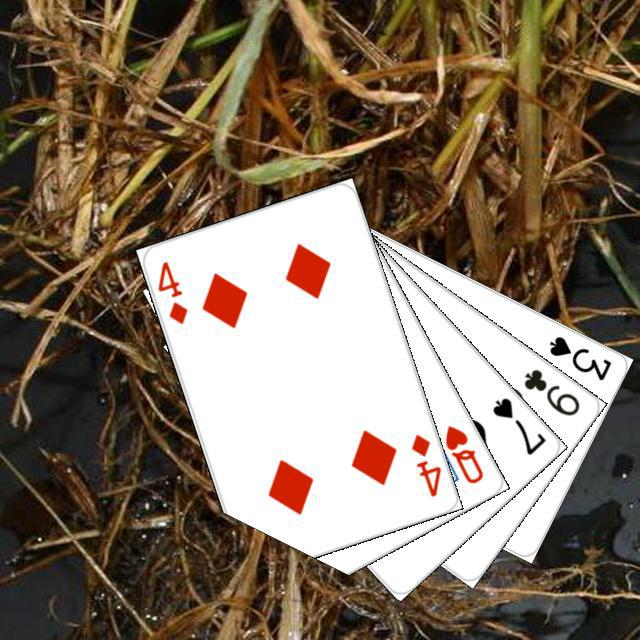3s: (544, 331, 613, 382)
4d: (152, 256, 190, 327), (406, 429, 443, 499)
7s: (487, 392, 548, 457)
9c: (518, 364, 582, 418)
Qh: (440, 420, 485, 486)
